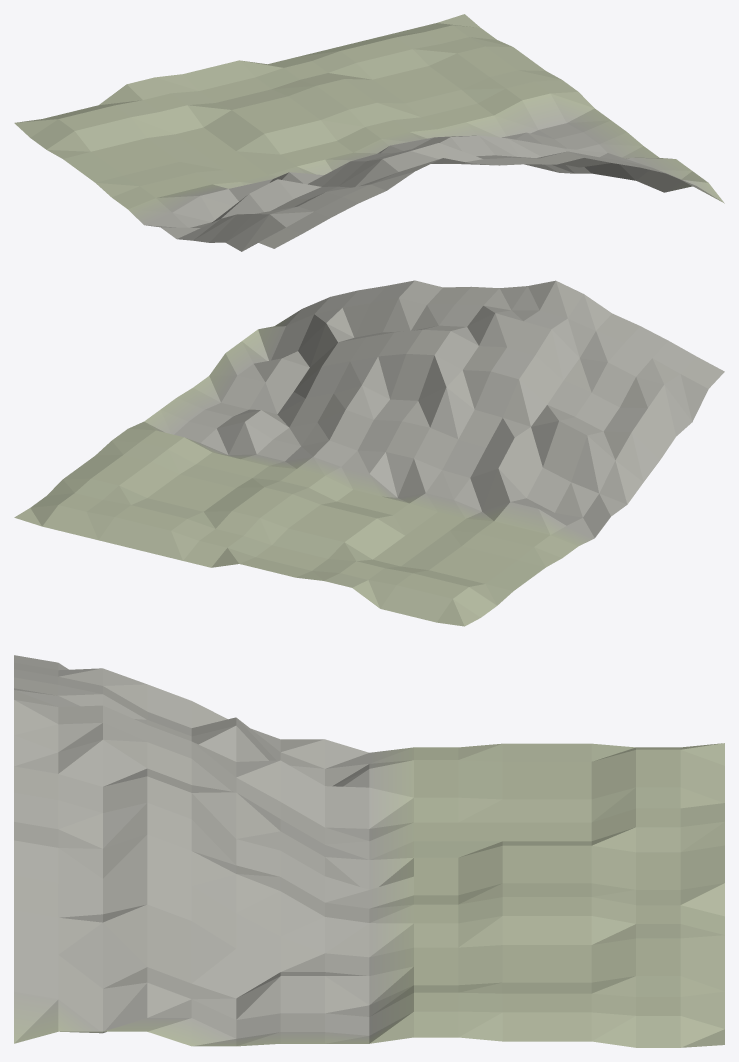
3 views of the same model, one above another, from view 1: azimuth 30°, elevation 25°; view 2: azimuth 150°, elevation 25°; view 3: azimuth 270°, elevation 25° (orthographic). The views are drawn at different scales.
Bounding box in the file's own units: 32 × 8.74 × 32.
